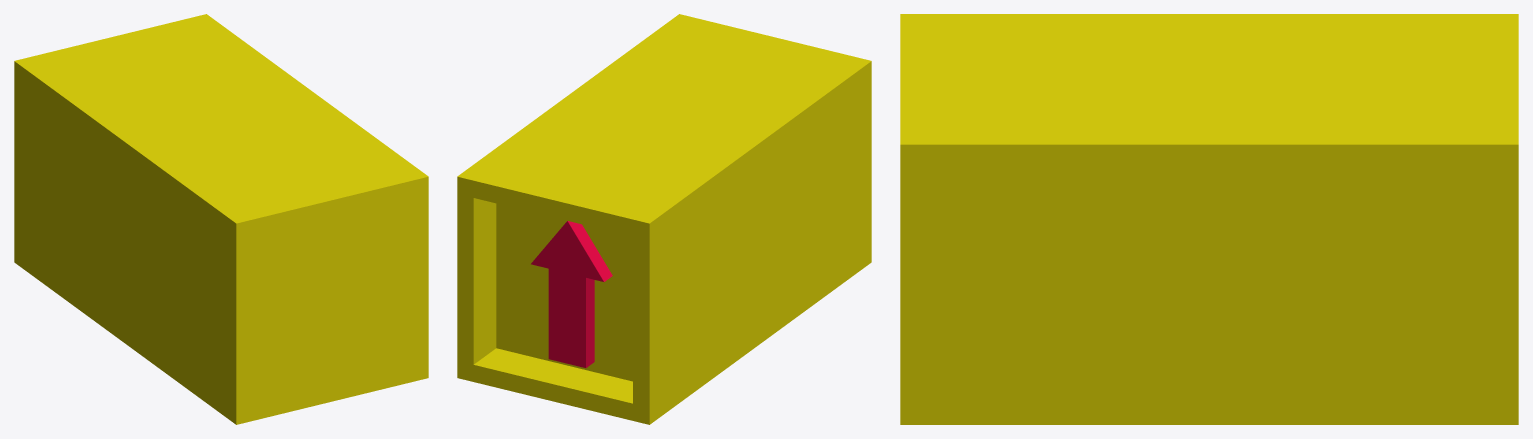
Rendered from lvl2_groundTop.fbx.
3 renders of one model, left to right at view 1: azimuth 30°, elevation 25°; view 2: azimuth 150°, elevation 25°; view 3: azimuth 270°, elevation 25°, orthographic. The views are drawn at different scales.
Parts seen in each view (by area): view 1: pCube9; view 2: pCube9; view 3: pCube9.
Part boxes in pixels (x1,y1,x2,y2): pCube9: (14,14,428,424); pCube9: (457,14,871,424); pCube9: (900,14,1518,424).
Size of the model in its own units: 100 by 100 by 200.
